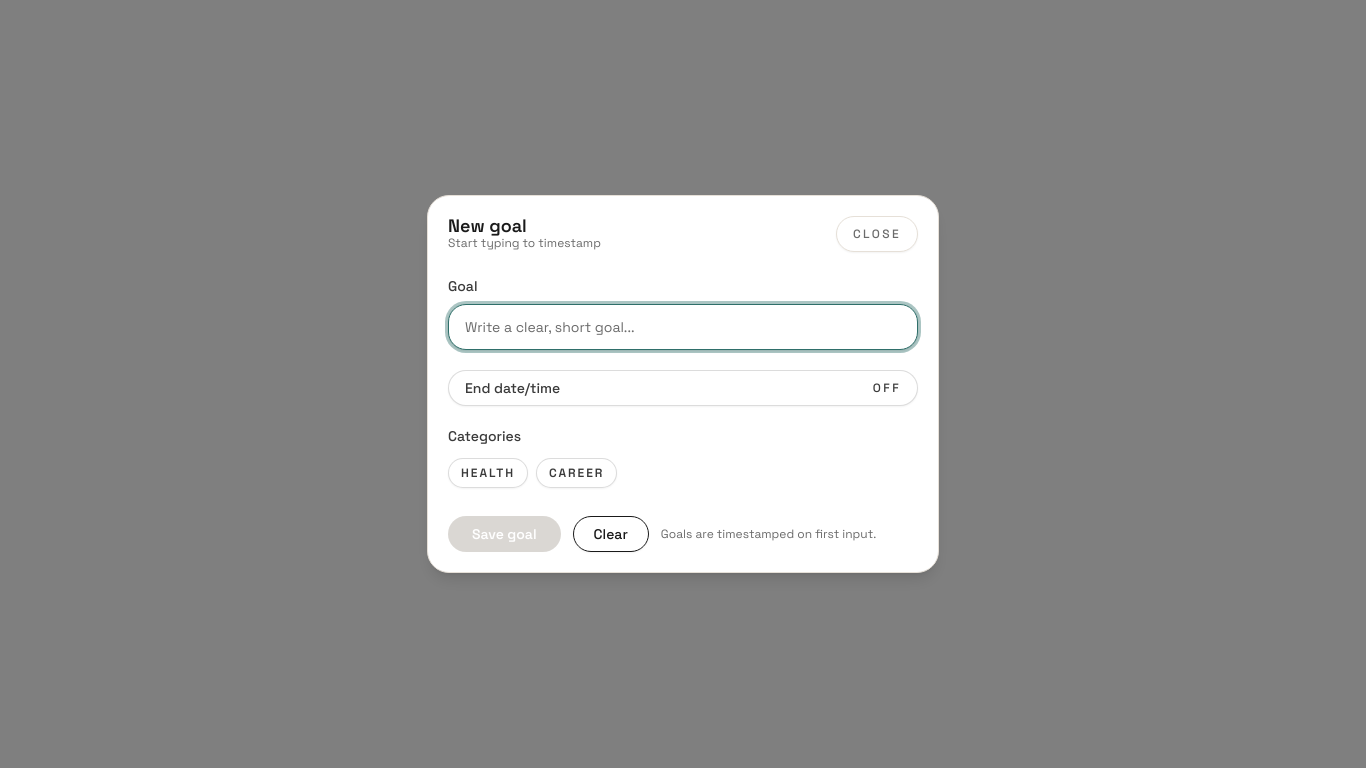
NewGoalDialog › keeps Save disabled until a title is entered
The image size is (1366, 768).
Expected: the button "Save goal" is disabled, [448,516,561,552]
In the field with placeholder "Write a clear, short goal...": x=683, y=327 [448,304,918,350], type "Ship it"
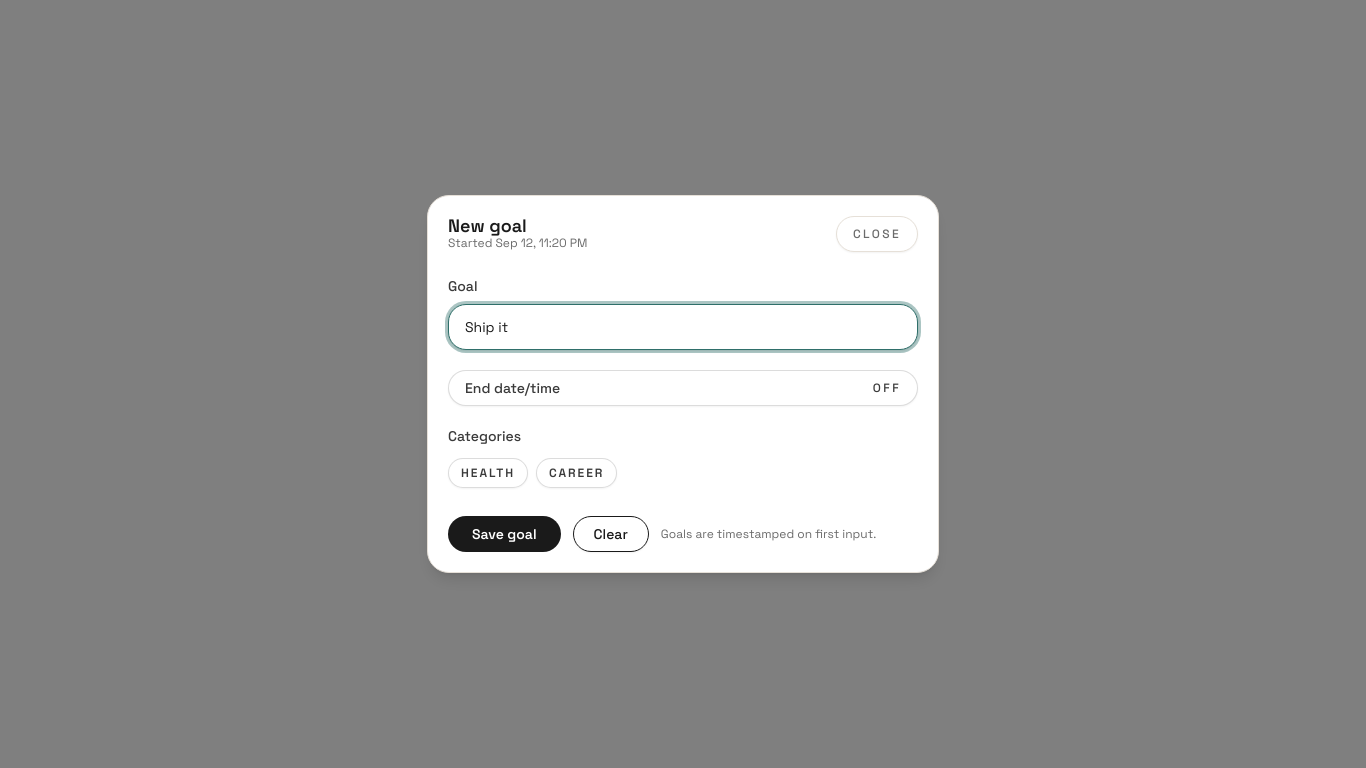
Result: the button "Save goal" is enabled at [448,516,561,552]
